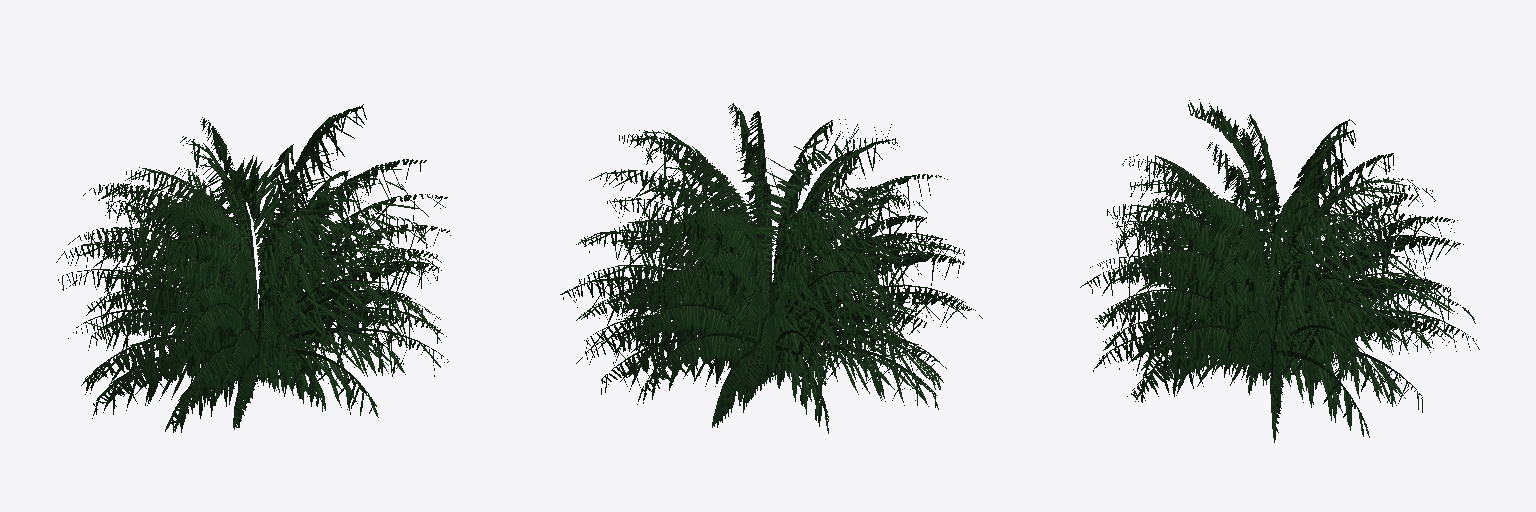
The picture shows the model from 3 angles: view 1: azimuth 30°, elevation 25°; view 2: azimuth 150°, elevation 25°; view 3: azimuth 270°, elevation 25°; orthographic projection.
Parts seen in each view (by area): view 1: Plant; view 2: Plant; view 3: Plant.
Boxes of the visible parts, box(x1,y1,x2,y2) form: Plant: box(56, 104, 450, 432); Plant: box(560, 103, 982, 433); Plant: box(1080, 99, 1479, 442).
Size of the model in its own units: 20.3 by 14.23 by 19.99.
4 materials, 1 textured.